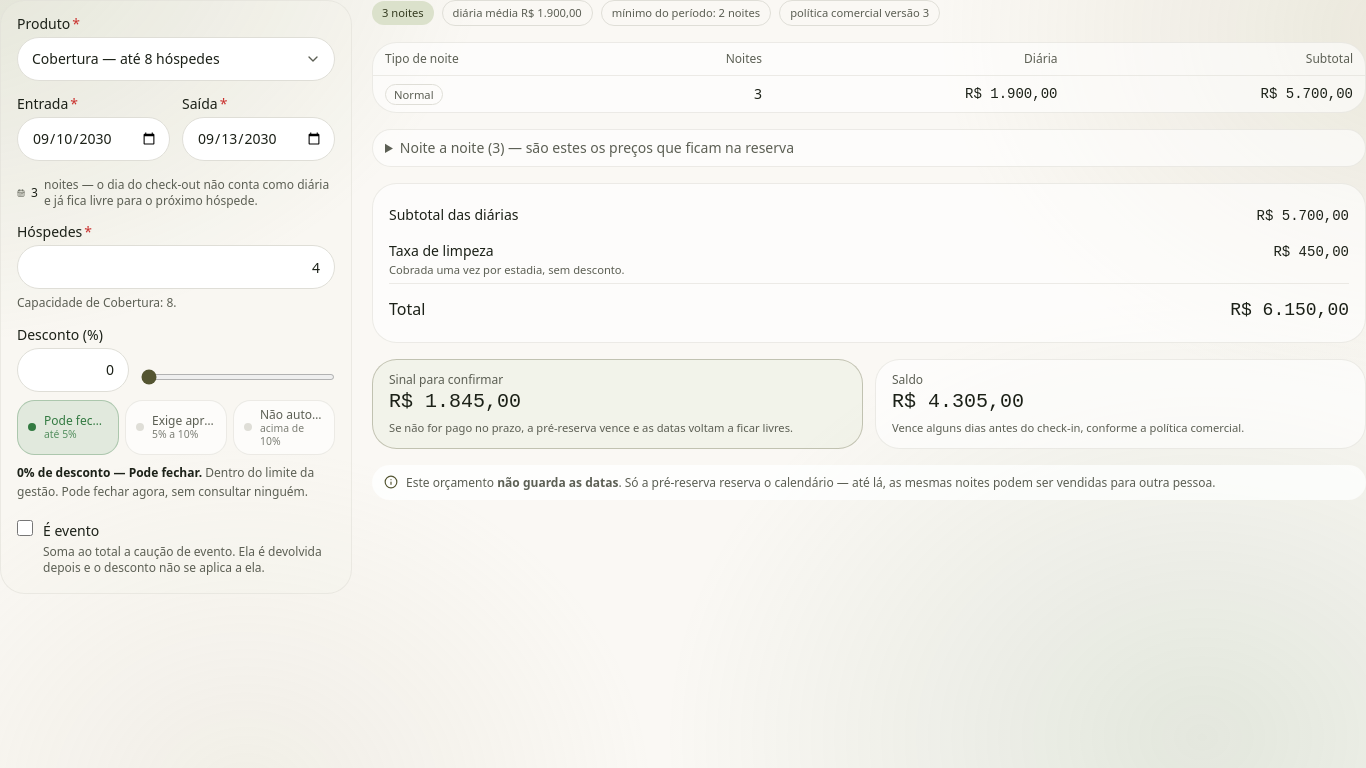
Scenario: QuoteBuilder › não transforma desconto acima do teto em requisição
Replace the text in the field labelled "Desconto (%)" with "22" at (73, 370), box [17,348,129,392]
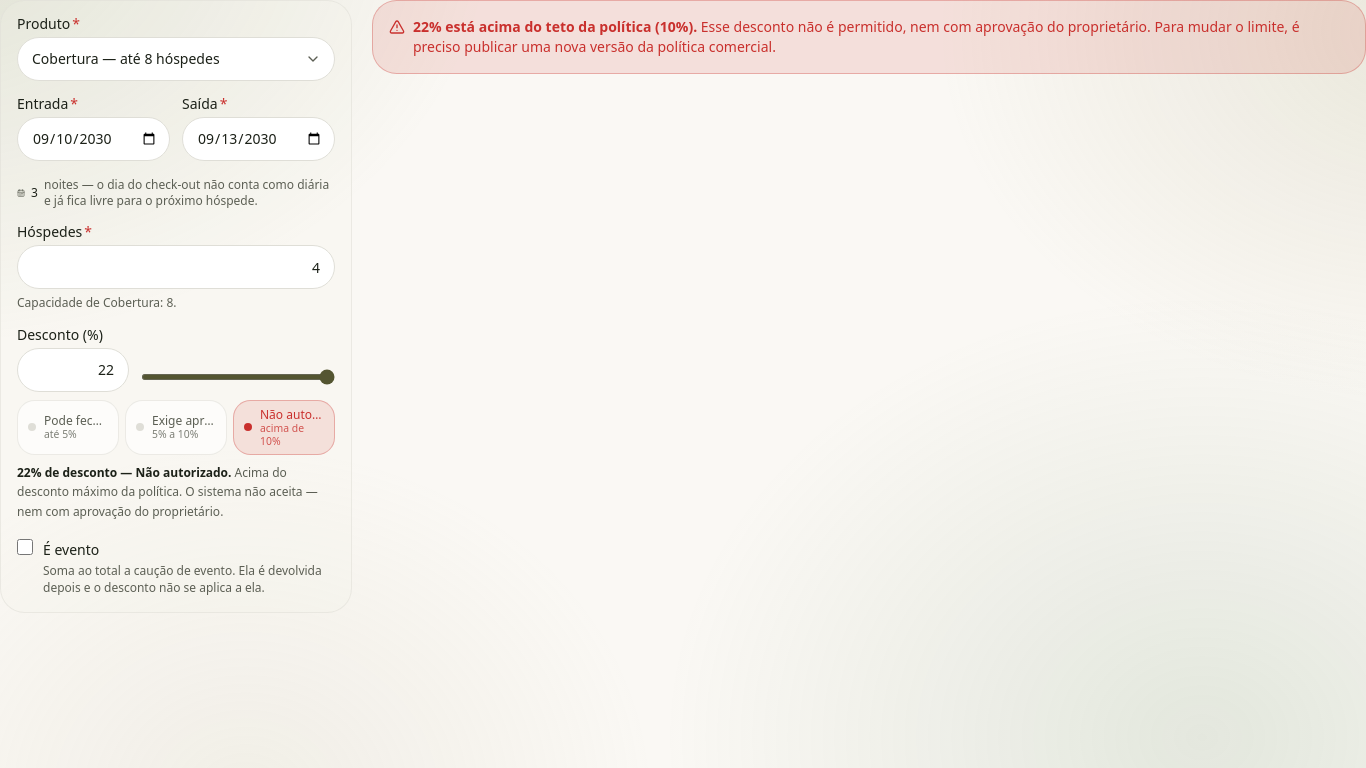
Expected: the text "22% está acima do teto da política (10%)." is shown, [413,17,697,36]
